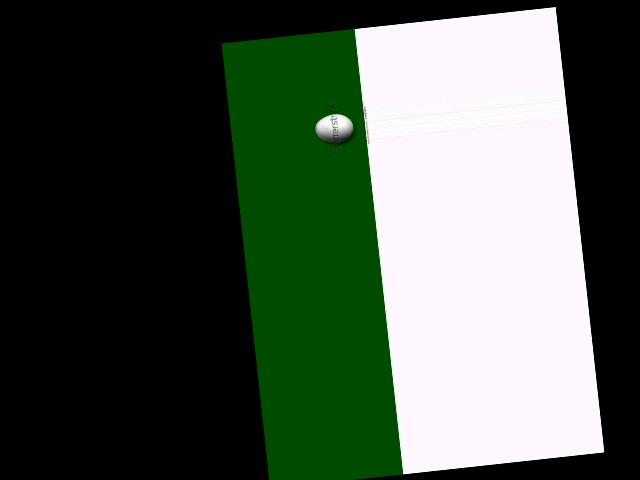egg: (313, 112, 354, 144)
